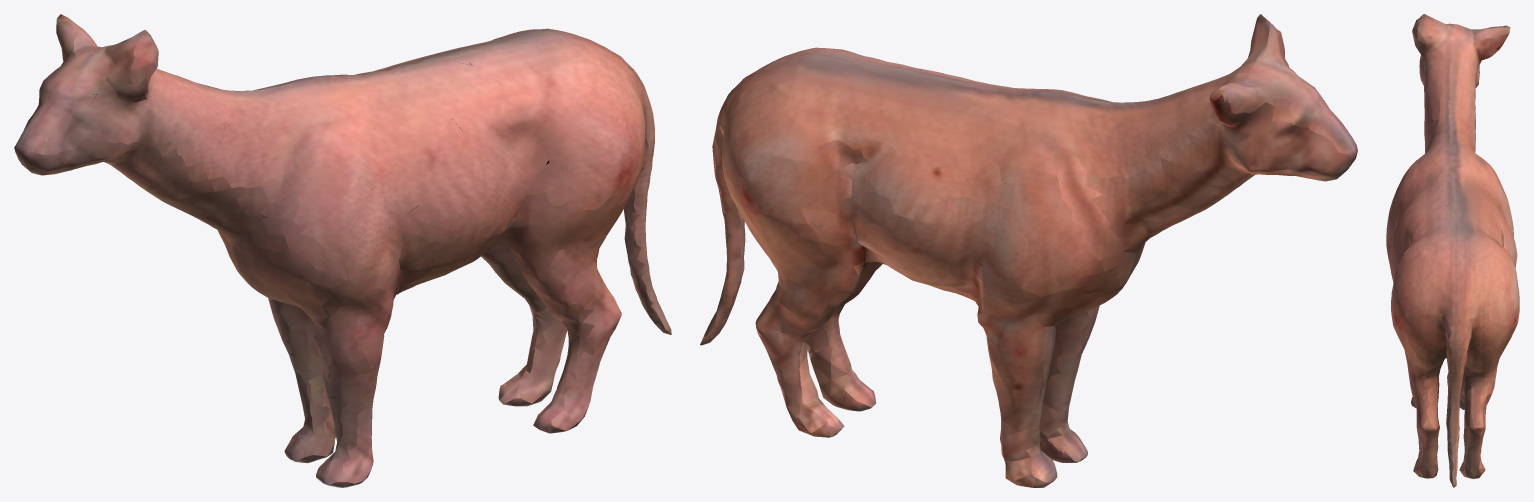
Rendered from cast-sf3d-skin-longneck.glb.
The picture shows the model from 3 angles, left to right: view 1: azimuth 30°, elevation 25°; view 2: azimuth 150°, elevation 25°; view 3: azimuth 270°, elevation 25°; orthographic projection. The views are drawn at different scales.
Parts seen in each view (by area): view 1: world; view 2: world; view 3: world.
Part boxes in pixels (x1=…): world: x1=14, y1=14, x2=671, y2=487; world: x1=700, y1=14, x2=1357, y2=487; world: x1=1386, y1=14, x2=1519, y2=487.
Bounding box in the file's own units: 0.97 × 0.7043 × 0.2588.
1 material, 1 textured.
